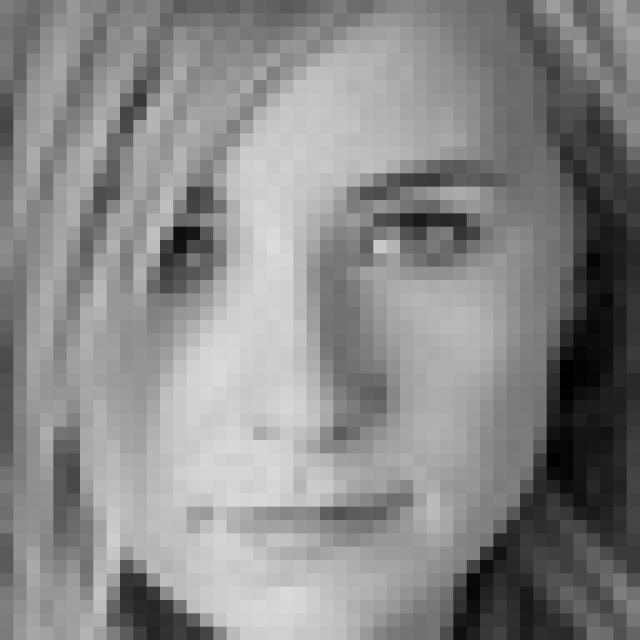neutral: (146, 154, 516, 566)
